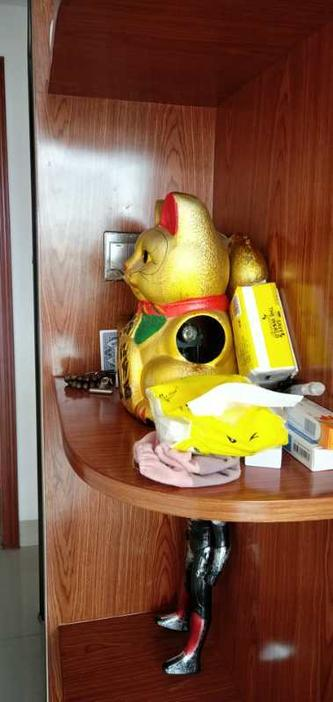switch: (112, 237, 127, 275)
